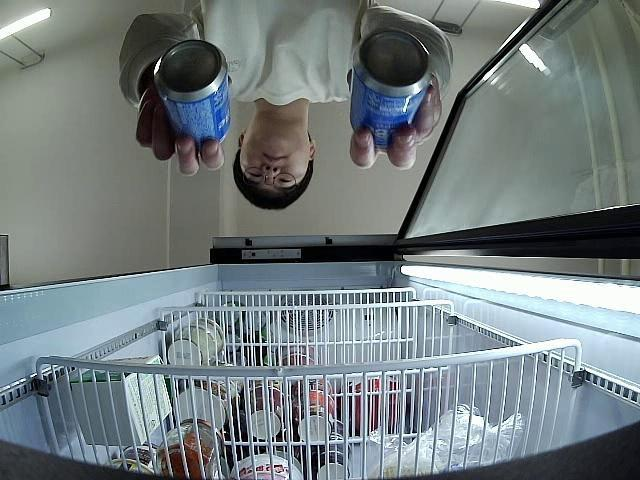15_letsbe: (350, 29, 430, 154), (154, 41, 230, 147)
